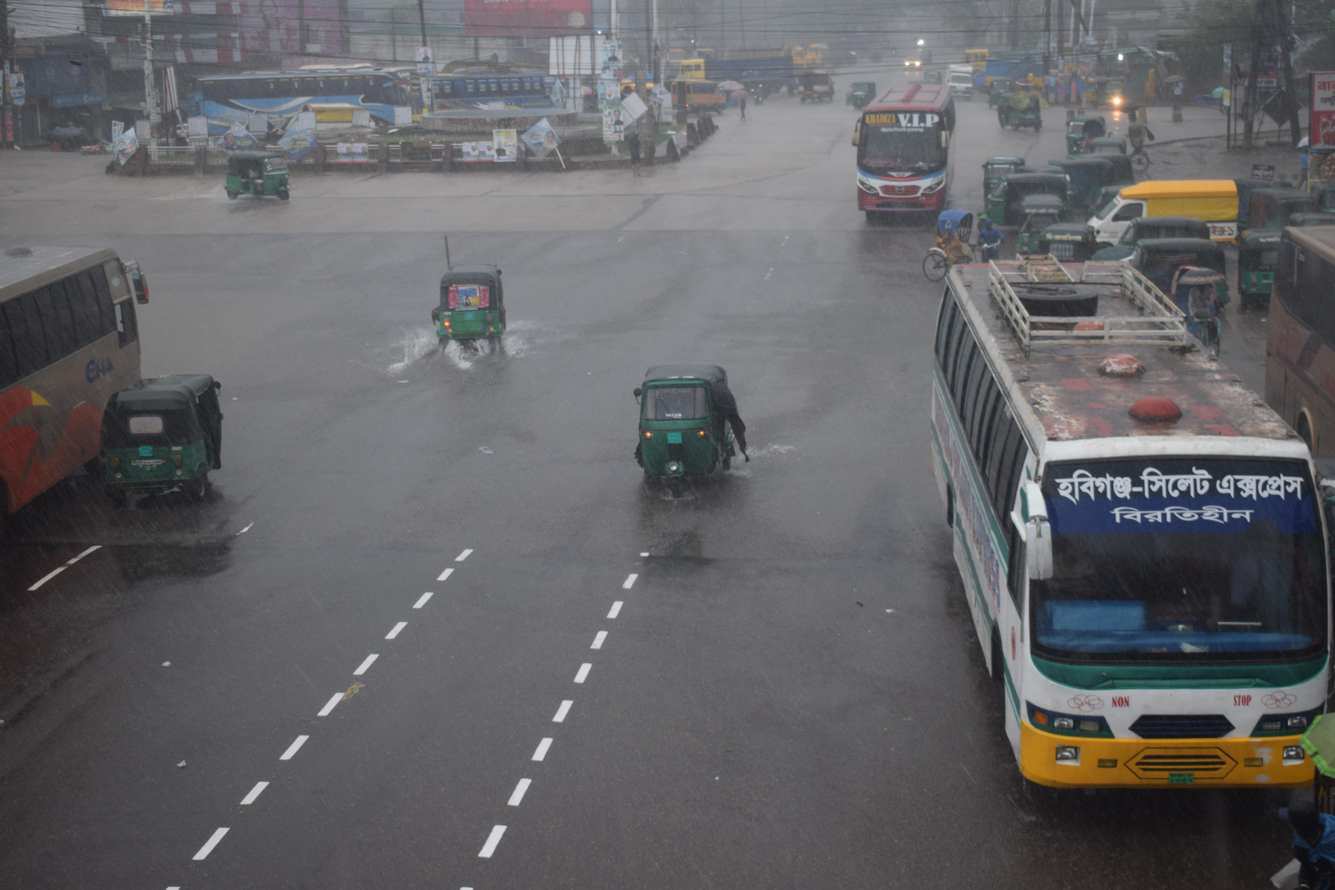Bike: (164, 44, 433, 174), (380, 54, 598, 174), (635, 29, 809, 103)
Bus: (896, 218, 1335, 818), (0, 211, 198, 562), (827, 65, 960, 261)
Car: (1085, 170, 1264, 241)
